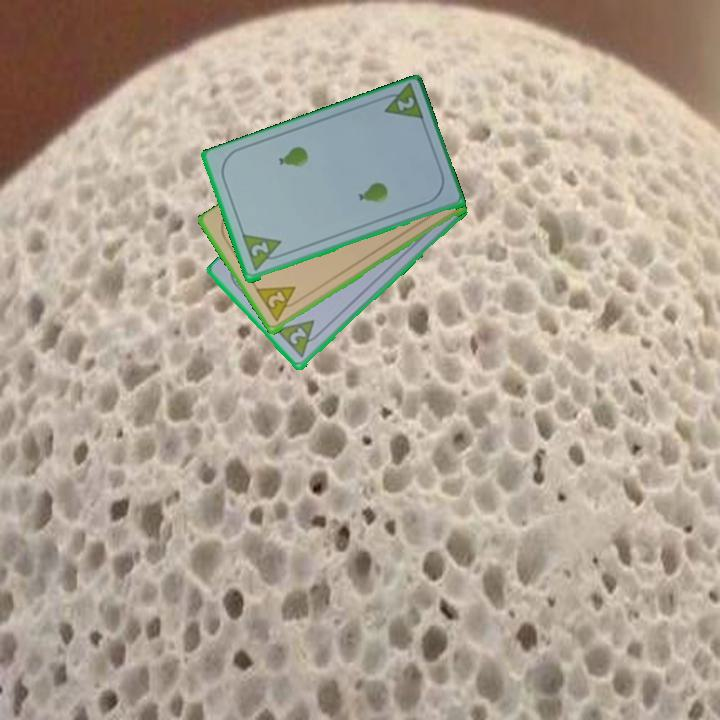2p: (273, 316, 326, 362), (239, 231, 288, 275), (253, 283, 304, 325), (393, 94, 417, 114)
